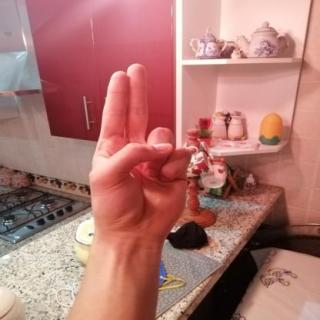TA: (80, 54, 200, 248)
